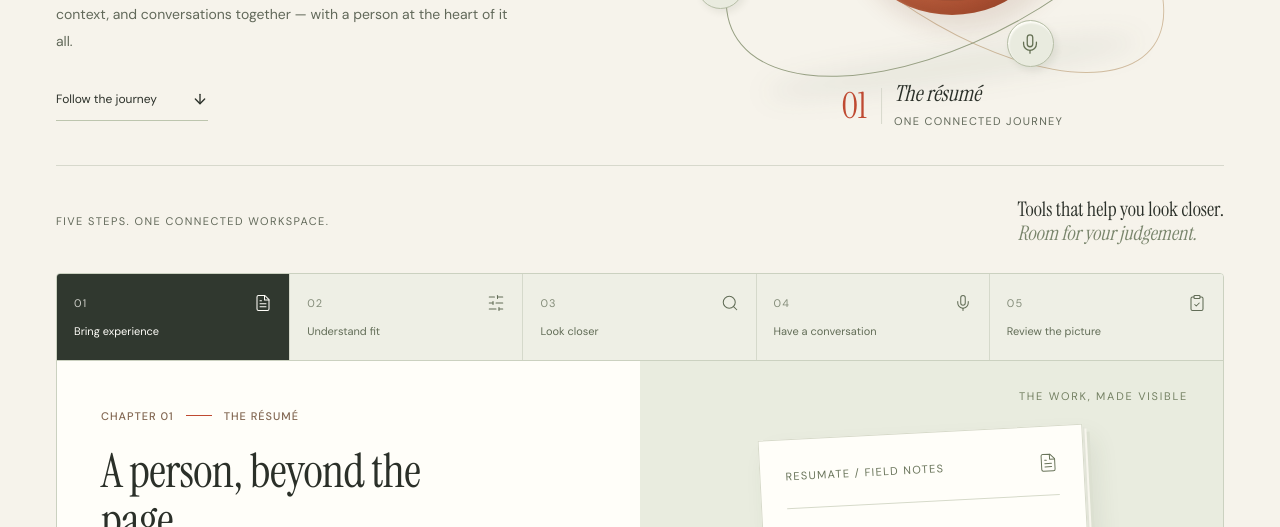
Scenario: what the page says › asks for what the interview form asks for, and sends an invitation only when asked to
The image size is (1280, 527).
(page scrolled)
Step 1. Click the button "04 Have a conversation" → [873, 317], box 757,274 -> 990,360
(page scrolled)
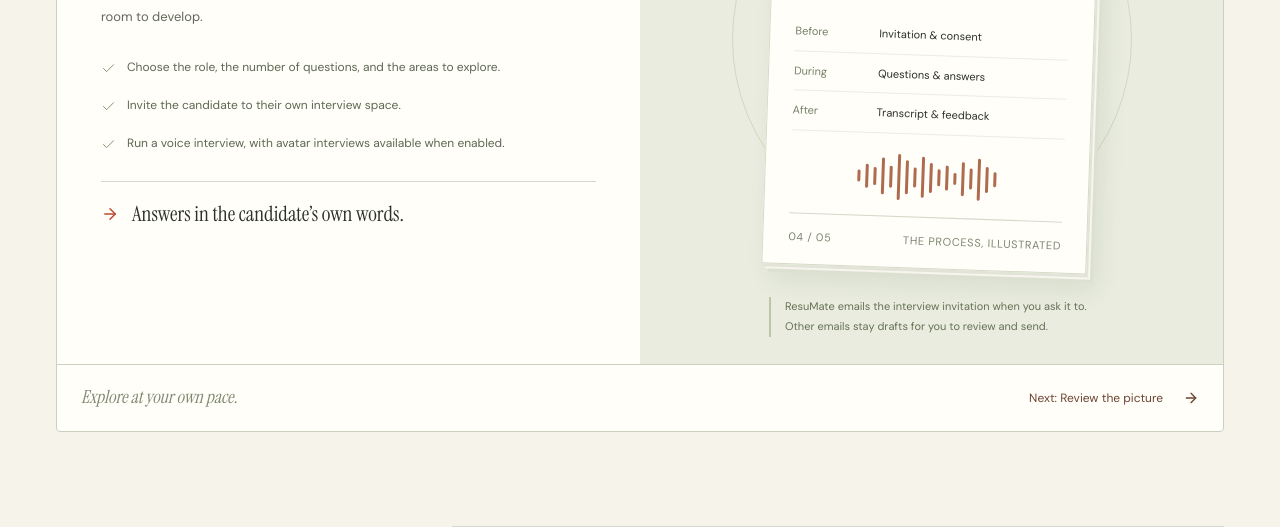
Expected: the text "Choose the role, the number of questions, and the areas to explore." is shown, 127,57 -> 500,78
Expected: the text "ResuMate emails the interview invitation when you ask it to. Other emails stay drafts" is shown, 785,299 -> 1087,333
